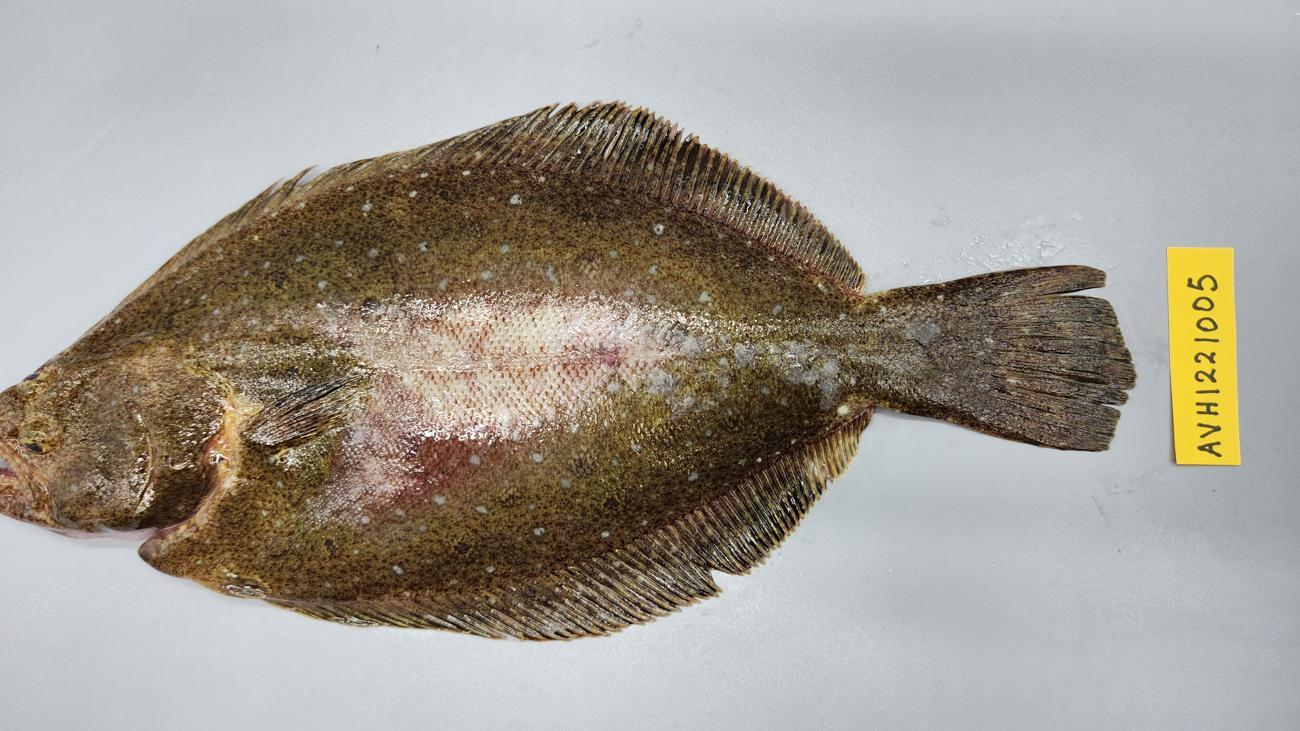VIDYH: (264, 233, 746, 525)
VIFCH: (948, 265, 1137, 451)
